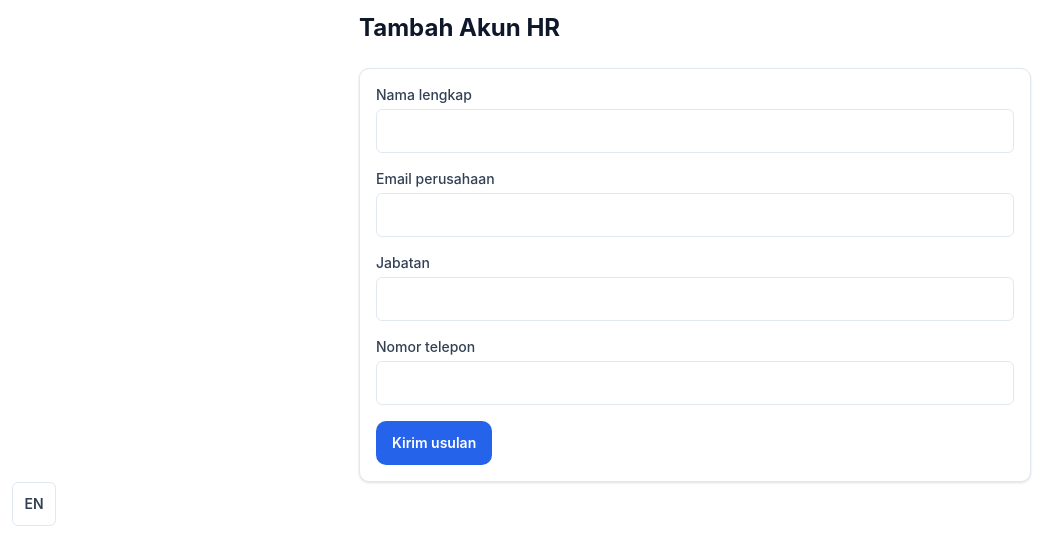
Test: HrAddPage › posts the add_hr proposal with the four fields and switches to the pending card
The image size is (1048, 543).
Type "Dewi Lestari" into the field labelled "Nama lengkap" at (695, 131), box [376,109,1014,153]
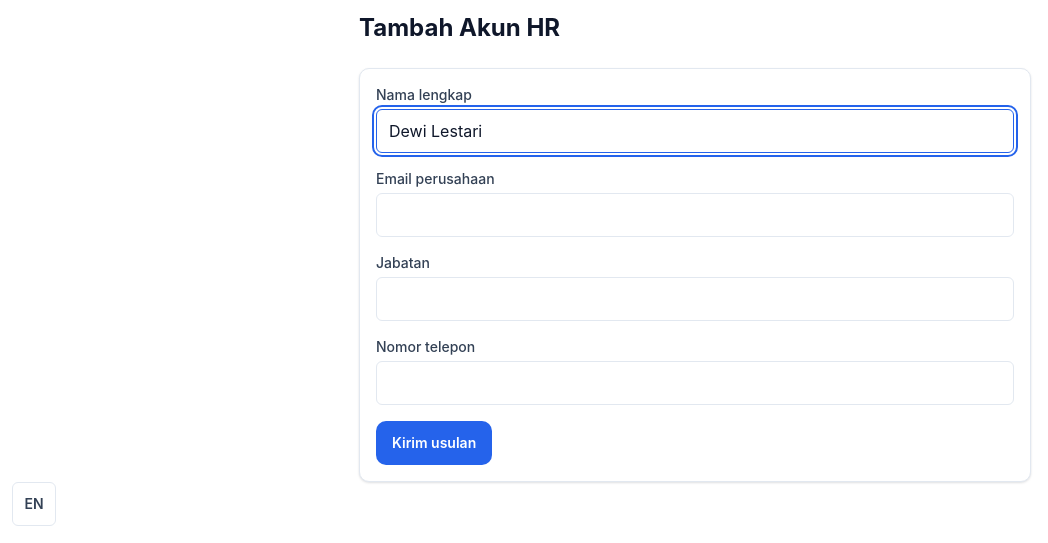
Type "dewi@corp.test" into the field labelled "Email perusahaan" at (695, 215), box [376,193,1014,237]
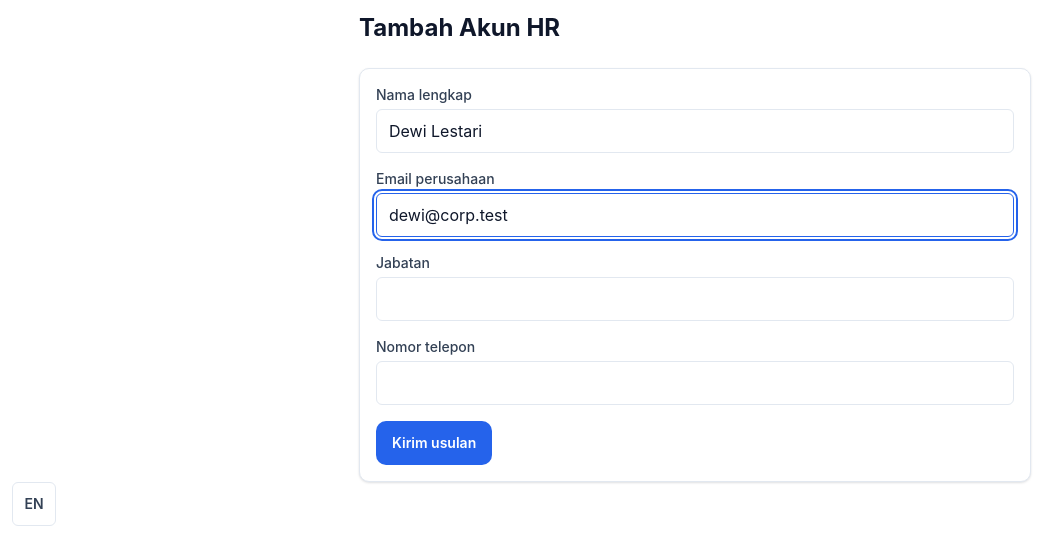
Type "HR Officer" into the field labelled "Jabatan" at (695, 299), box [376,277,1014,321]
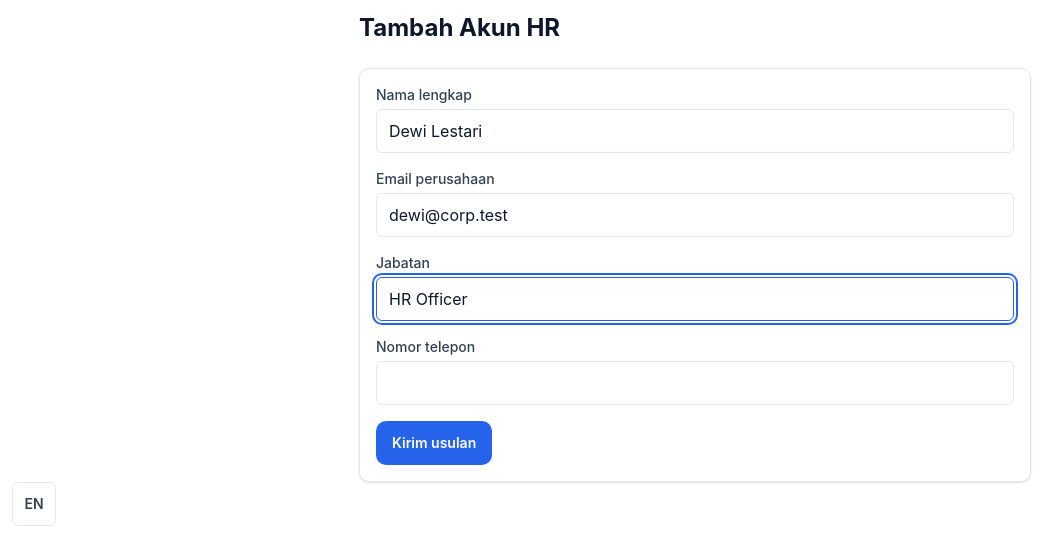
Type "081200000009" into the field labelled "Nomor telepon" at (695, 383), box [376,361,1014,405]
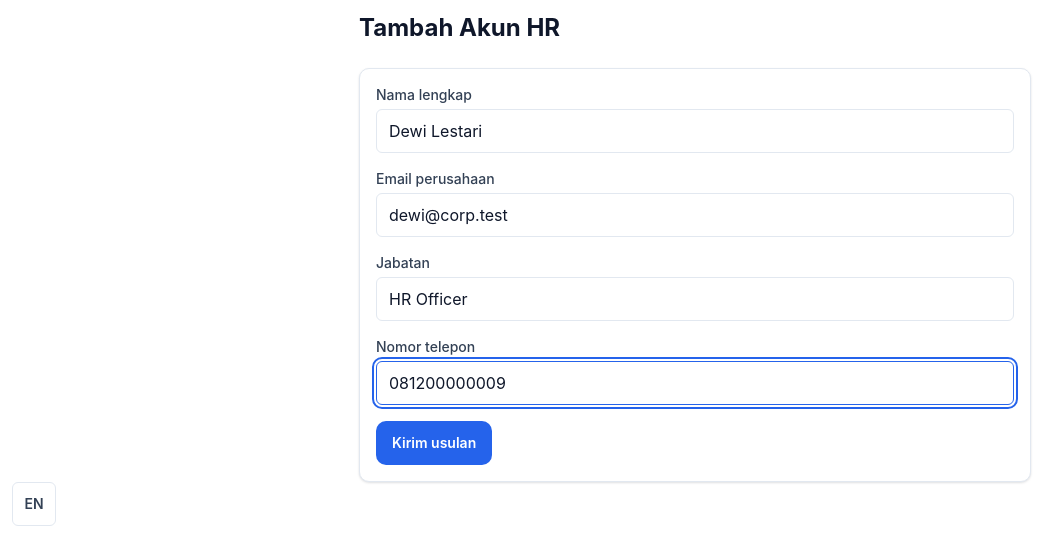
Click the button with test id "hr-add-submit" at (434, 443), box [376,421,492,465]
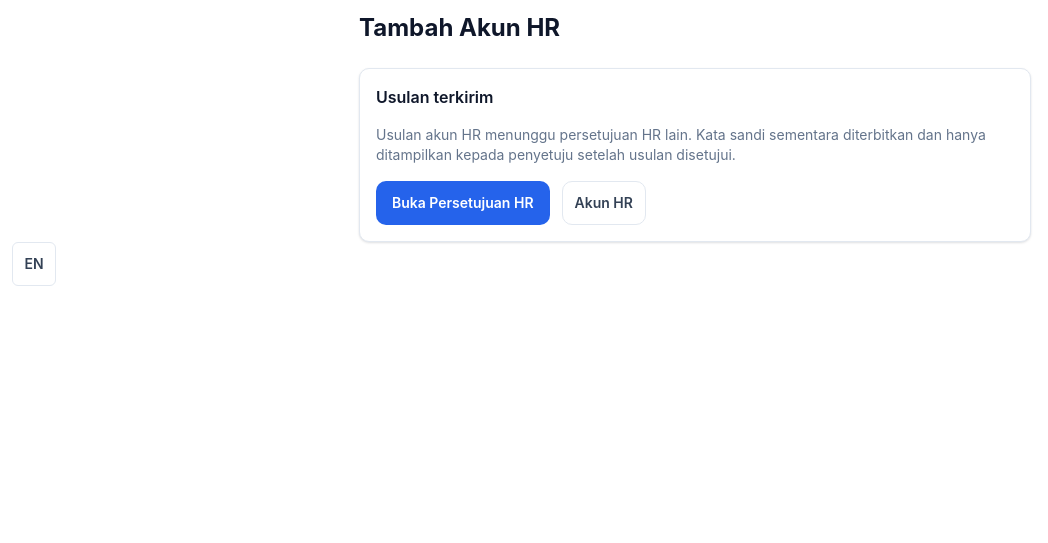
Result: the element with test id "hr-add-pending" shows "Usulan terkirim" at [376,87,494,107]
Result: the element with test id "hr-add-pending" shows "Usulan akun HR menunggu persetujuan HR lain. Kata sandi sementara diterbitkan dan hanya ditampilkan kepada penyetuju setelah usulan disetujui." at [376,126,986,163]
Result: the form is gone
